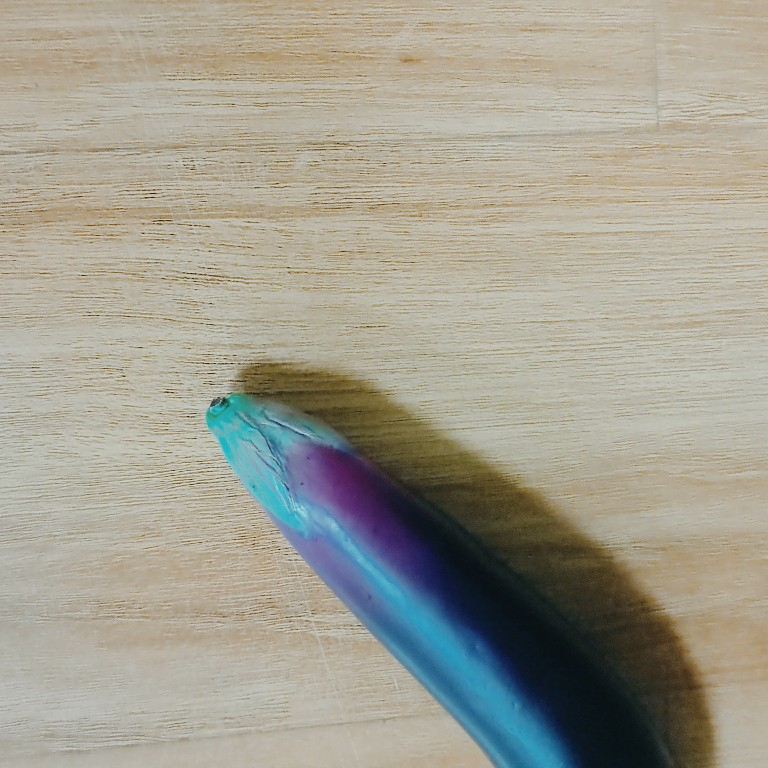fruit_eggplant: (203, 389, 676, 768)
